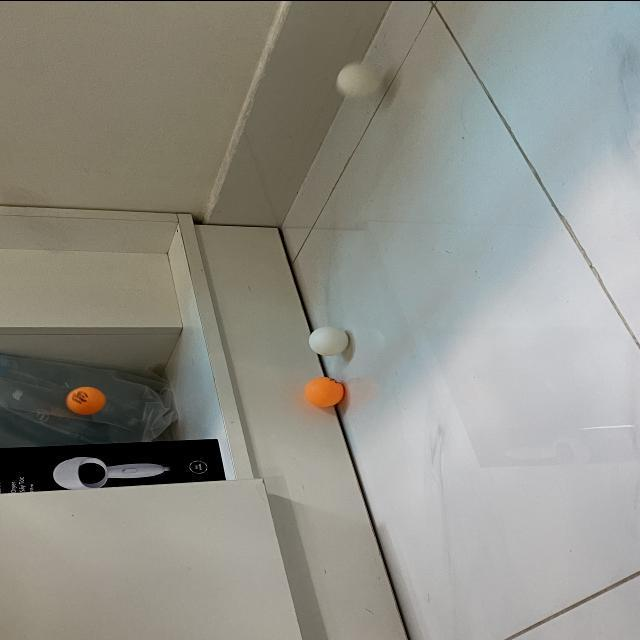ping-pong-ball: (339, 61, 383, 95), (304, 376, 344, 406), (309, 326, 349, 356), (66, 385, 106, 413)
